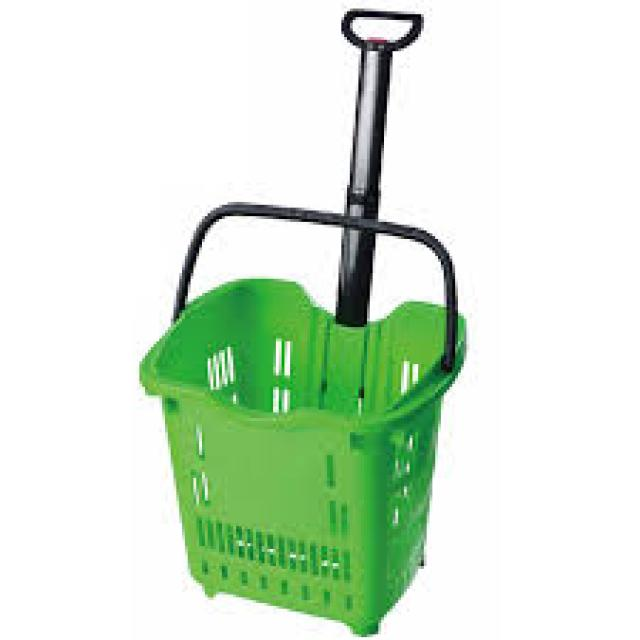basket: (97, 250, 476, 640)
